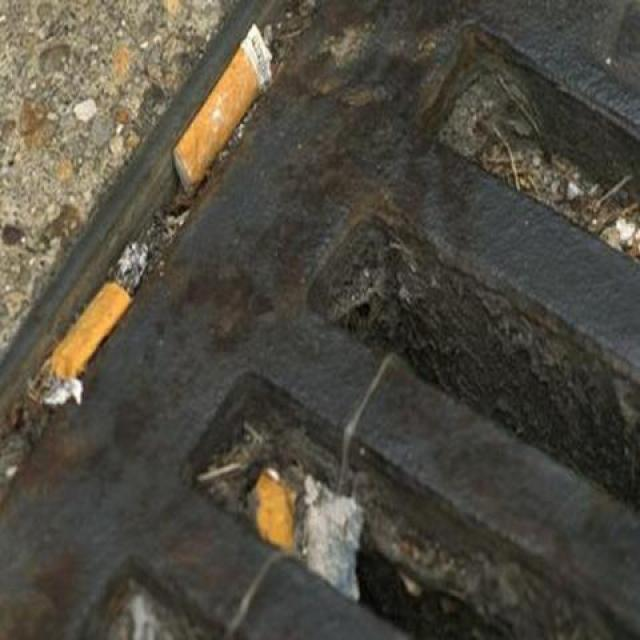non-organic waste: (168, 15, 284, 213), (45, 263, 143, 397)
